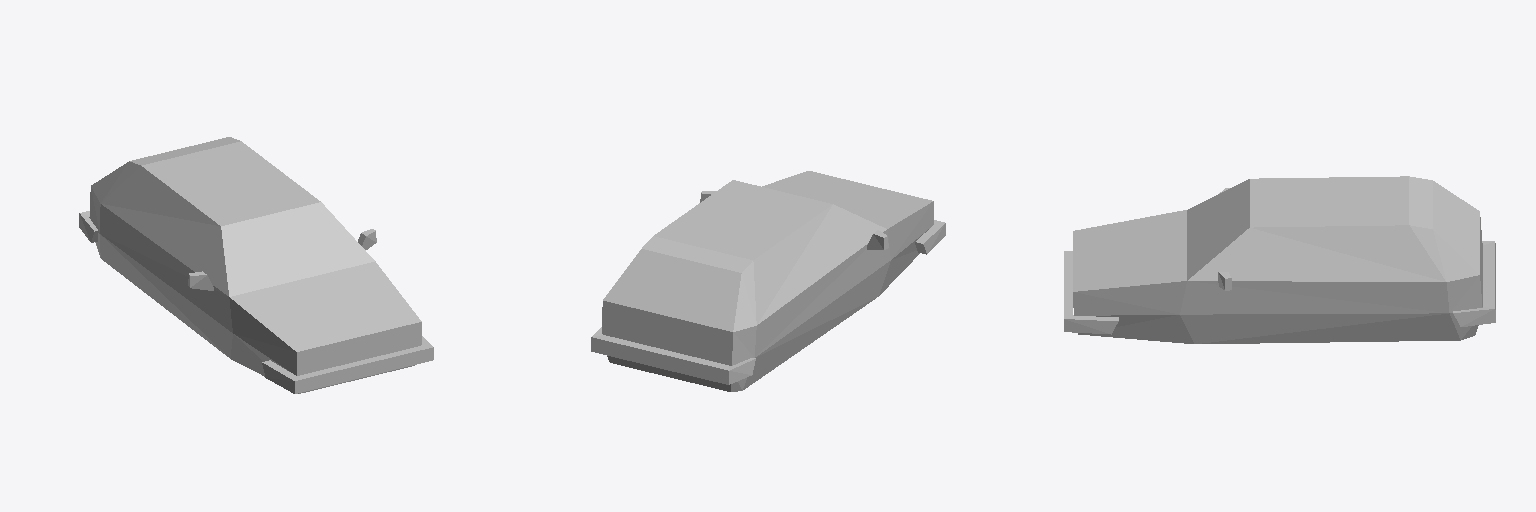
File: funcar_collision_mesh.obj
3 renders of one model, left to right at view 1: azimuth 30°, elevation 25°; view 2: azimuth 150°, elevation 25°; view 3: azimuth 270°, elevation 25°, orthographic.
Parts seen in each view (by area): view 1: Car_CollisonMesh_Cube.009; view 2: Car_CollisonMesh_Cube.009; view 3: Car_CollisonMesh_Cube.009.
Boxes of the visible parts, <box> form: Car_CollisonMesh_Cube.009: <box>79,137,433,393</box>; Car_CollisonMesh_Cube.009: <box>591,171,945,391</box>; Car_CollisonMesh_Cube.009: <box>1064,176,1495,343</box>.
Size of the model in its own units: 1.96 by 1.11 by 3.94.